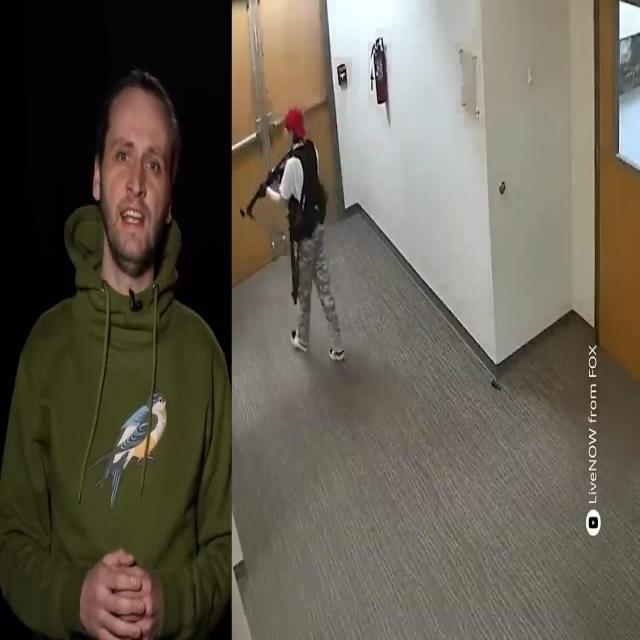pistol: (242, 144, 292, 218), (286, 208, 300, 302)
